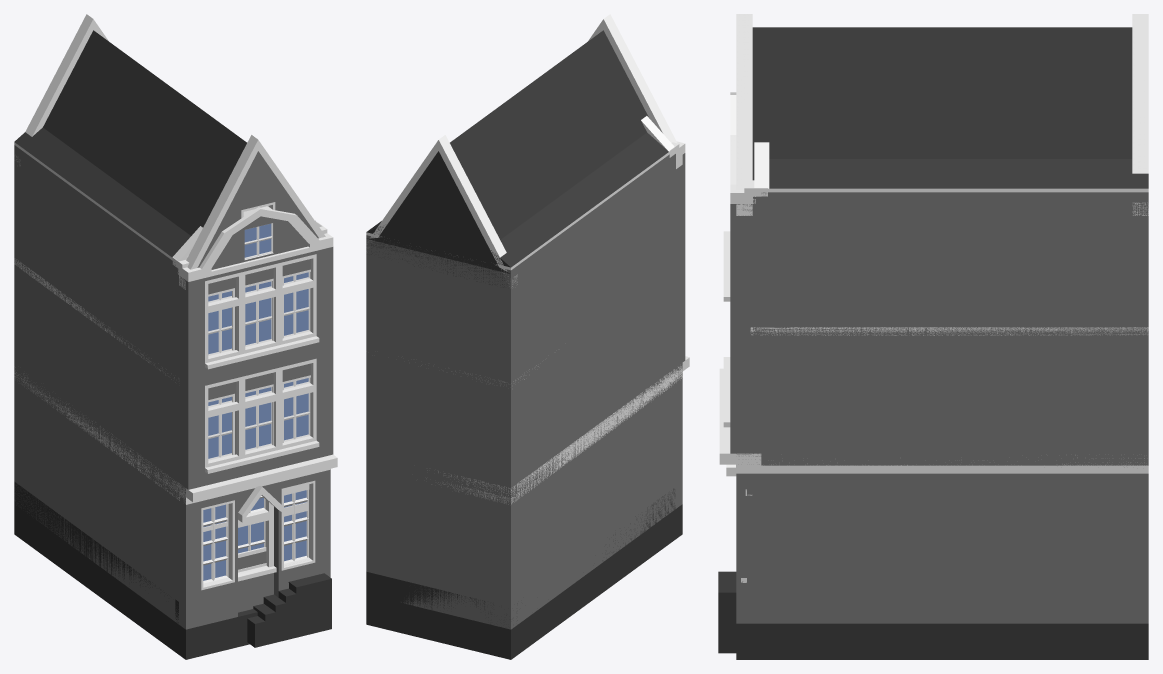
File: CityHouses.fbx
3 views of the same model, side by side, from view 1: azimuth 30°, elevation 25°; view 2: azimuth 150°, elevation 25°; view 3: azimuth 270°, elevation 25° (orthographic). The views are drawn at different scales.
Parts seen in each view (by area): view 1: CityHouse3, CityHouse1, CityHouse4, CityHouse2; view 2: CityHouse3, CityHouse4, CityHouse1, CityHouse2; view 3: CityHouse3, CityHouse2, CityHouse4, CityHouse1.
Boxes of the visible parts, box(x1,y1,x2,y2) form: CityHouse3: box(14, 14, 330, 659); CityHouse1: box(14, 170, 337, 612); CityHouse4: box(14, 149, 331, 647); CityHouse2: box(14, 127, 322, 651); CityHouse3: box(366, 14, 682, 659); CityHouse4: box(366, 142, 679, 659); CityHouse1: box(366, 141, 689, 649); CityHouse2: box(366, 116, 675, 658); CityHouse3: box(726, 14, 1148, 659); CityHouse2: box(750, 142, 1148, 659); CityHouse4: box(718, 180, 1148, 659); CityHouse1: box(719, 92, 1148, 627).
Bounding box in the file's own units: 750 × 2486 × 1606.
Materials: 5 (1 with a texture image).
